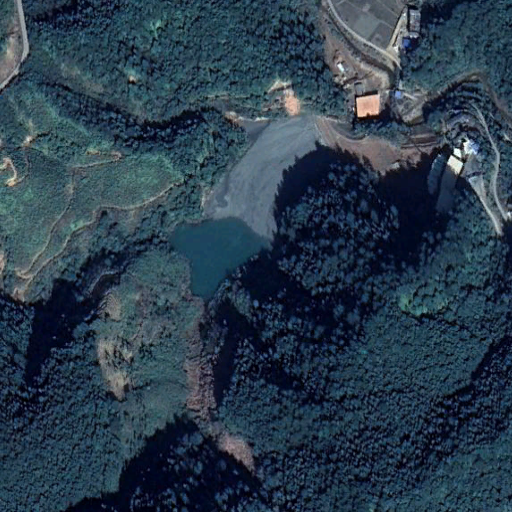tp: (167, 116, 436, 315)
